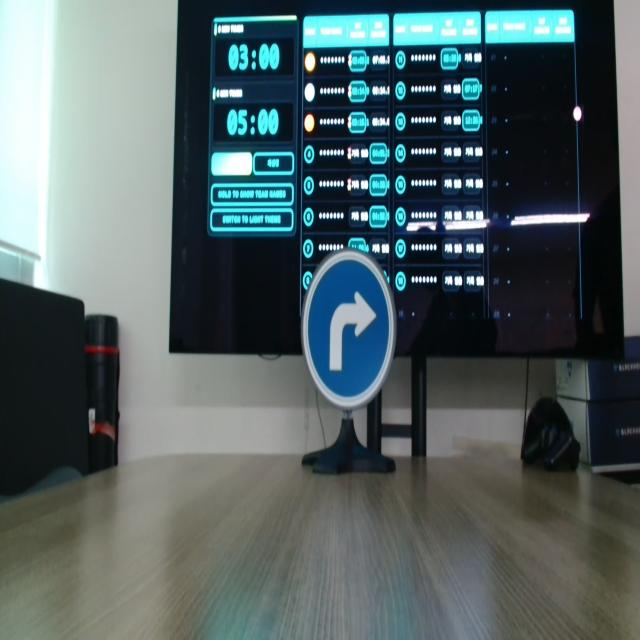right_dierection: (297, 230, 412, 440)
